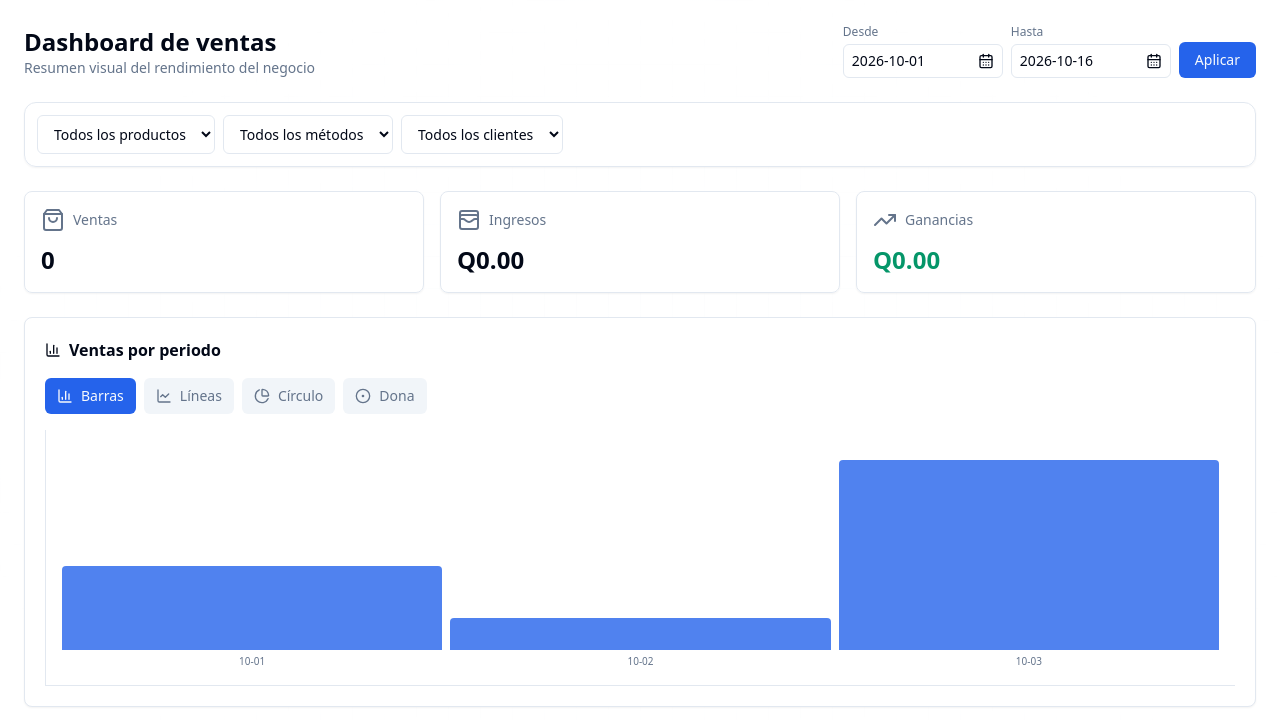
Test: <DashboardScreen /> › BUG-040: does not apply a range whose «Desde» is after «Hasta»
Note: Desde → 10/10/2026, Hasta → 09/10/2026.
Click the button "2026-10-01" at (923, 61), box [843,44,1003,78]
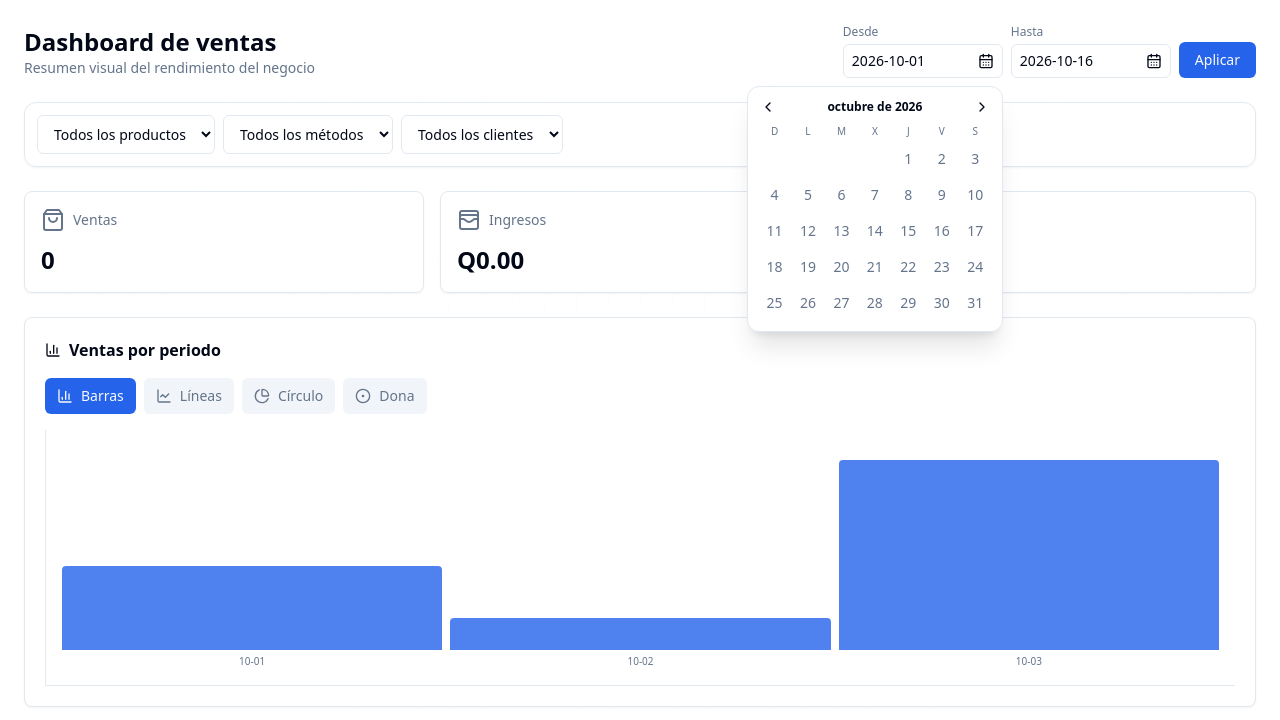
Click the button "10" at (975, 195), box [960,179,990,211]
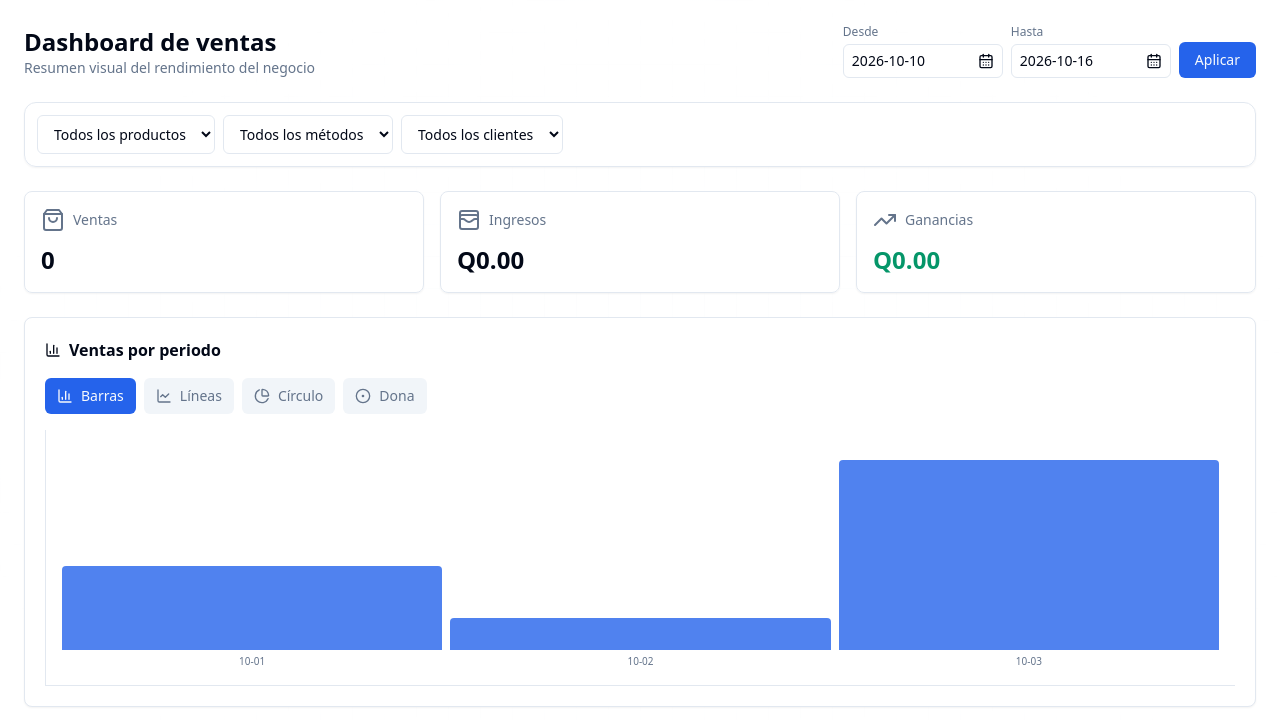
Click the button "2026-10-16" at (1091, 61), box [1011,44,1171,78]
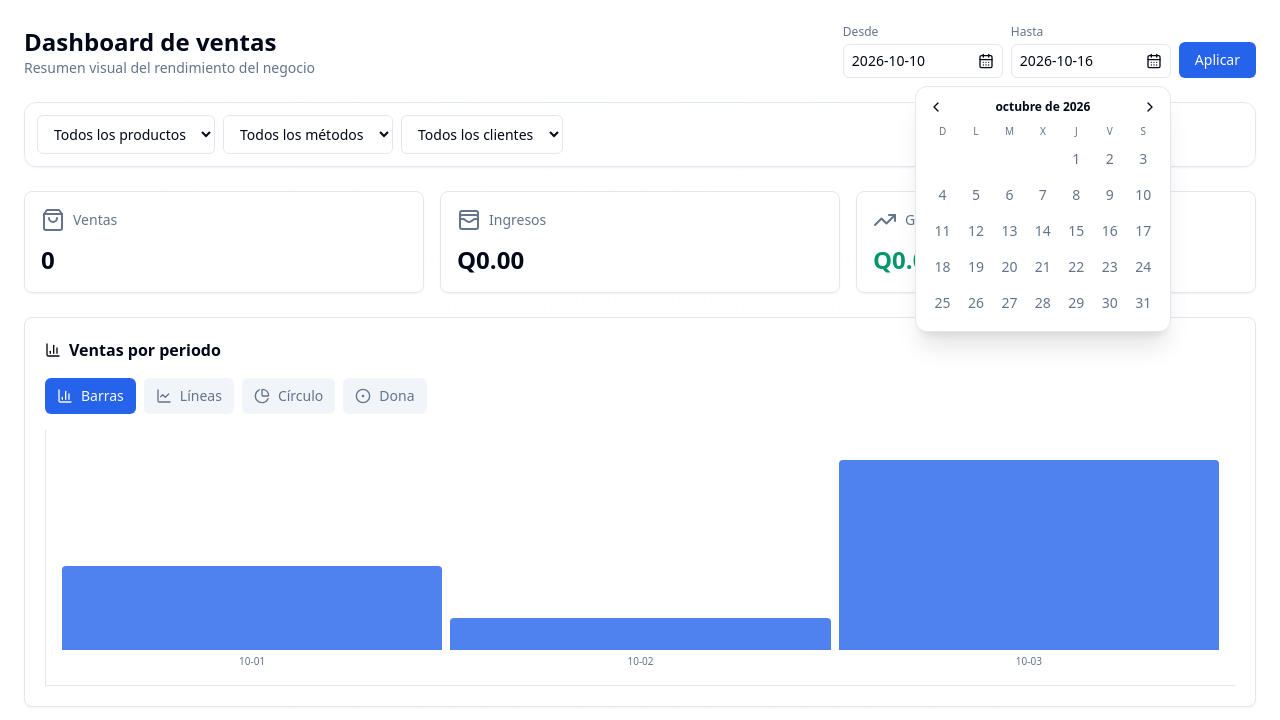
Click the button "9" at (1110, 195), box [1095,179,1124,211]
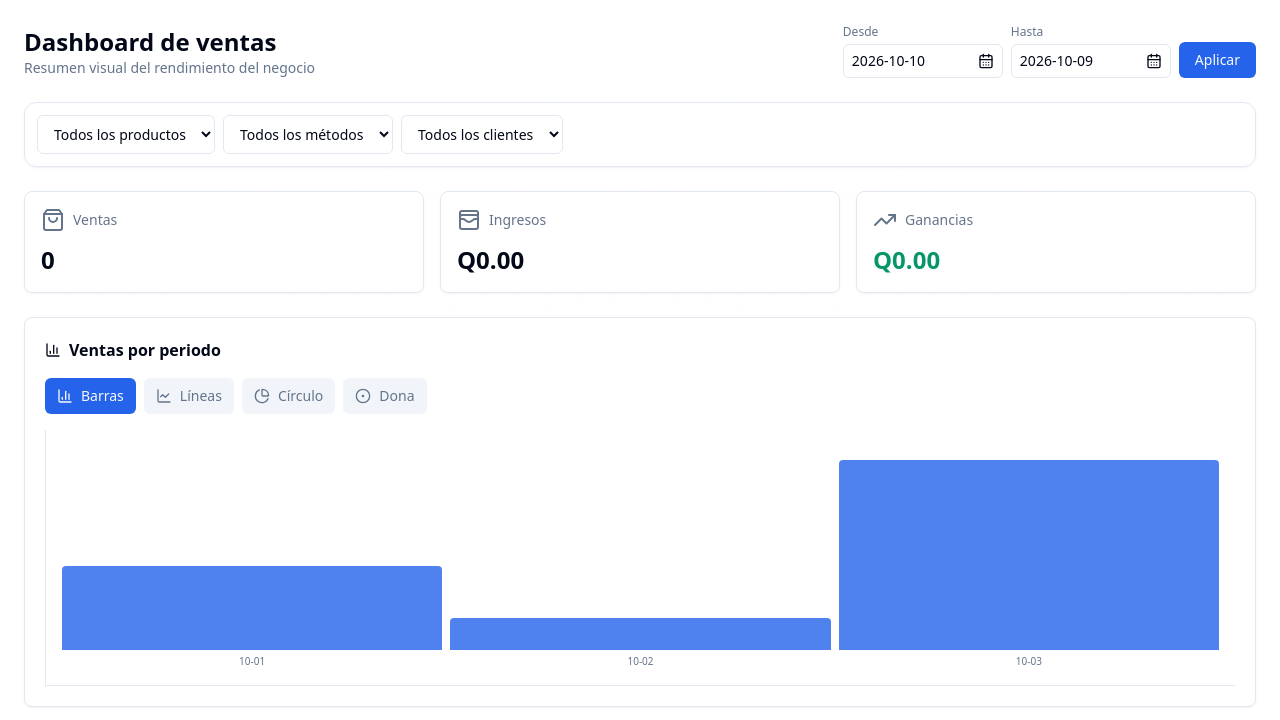
Click the button "Aplicar" at (1217, 60), box [1179,42,1256,78]
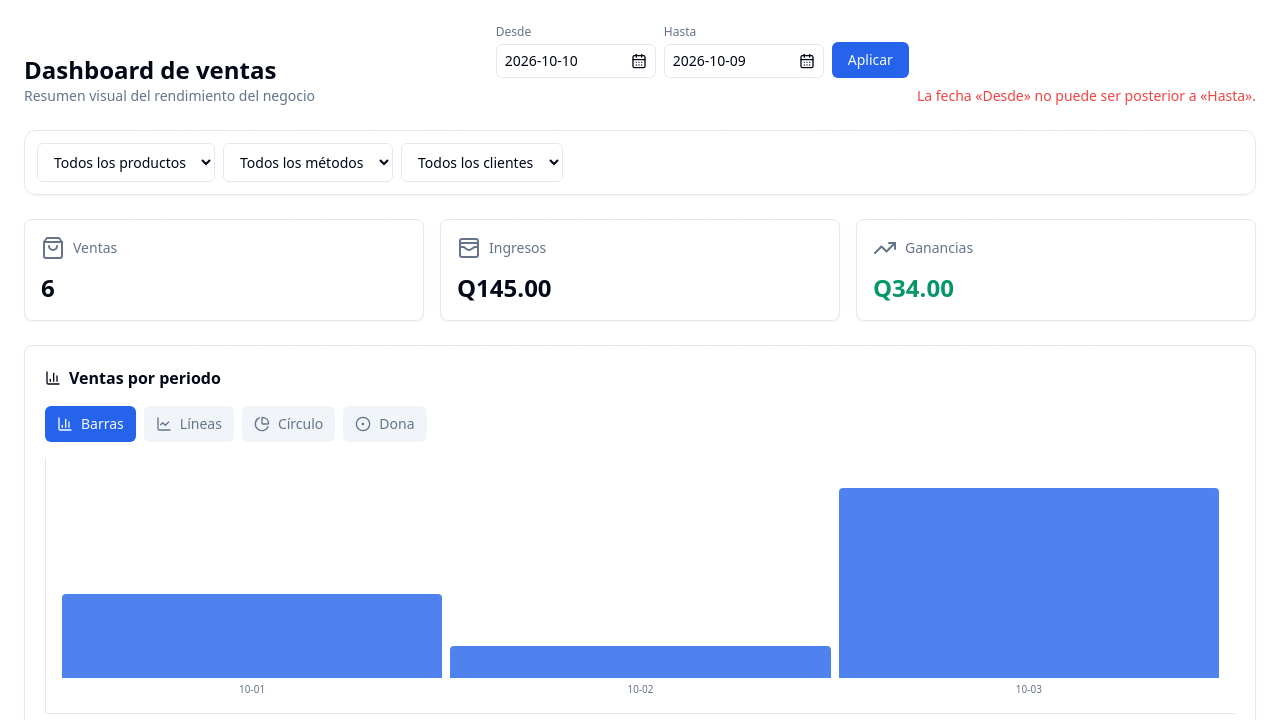
Now the text "La fecha «Desde» no puede ser posterior a «Hasta»." is shown, box [917,86,1256,105]
